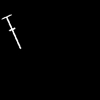double_crochet: (3, 15, 20, 48)
